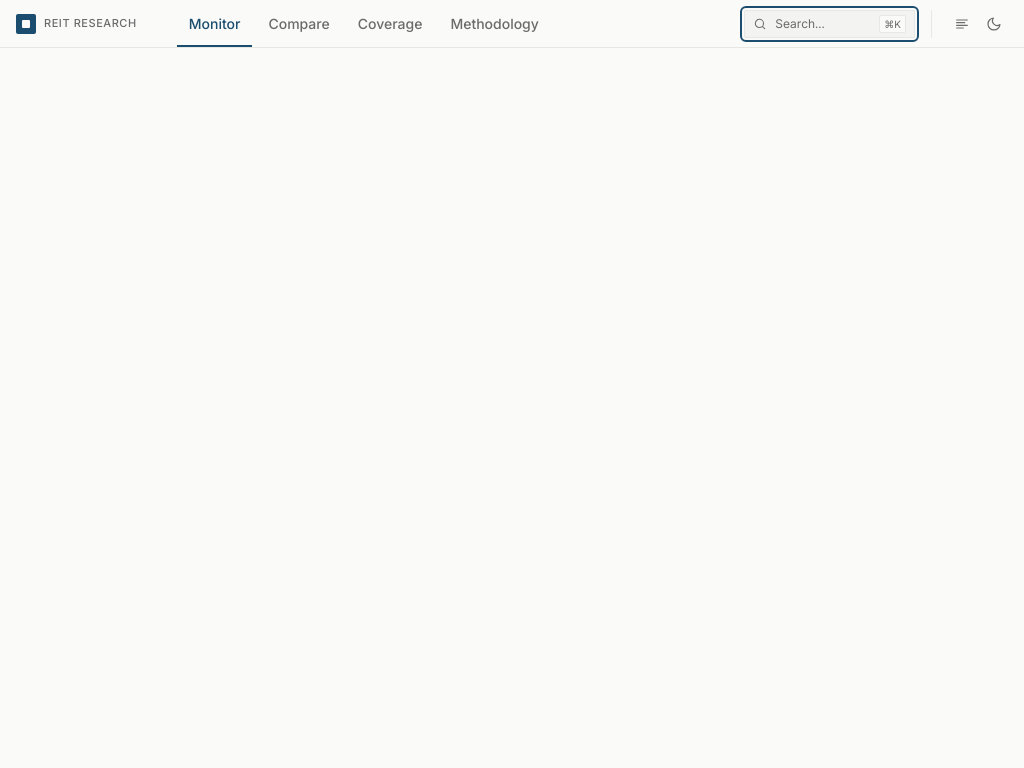
Test: GlobalNav Search › Search Trigger › should show initial entity suggestions without query
What coordinates should you click on to do the following:
click the button with aria-label "Open search (Cmd+K)"
I would click on:
 (830, 24)
Its box is [744,10,915,38].
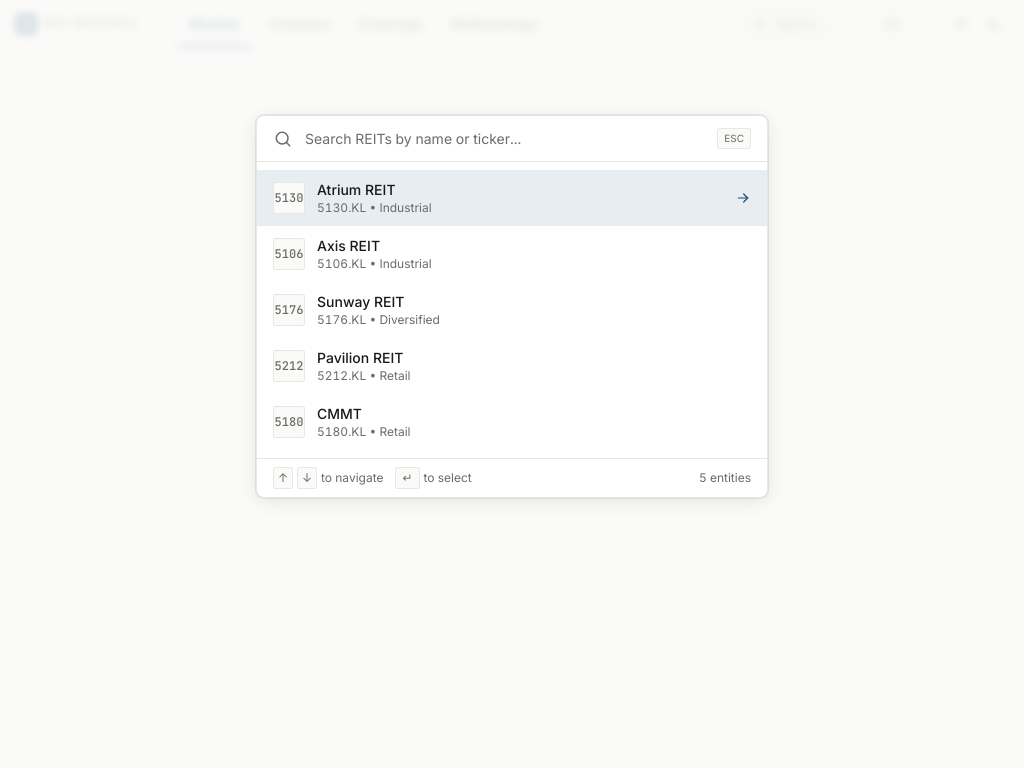
Now the text "Atrium REIT" is shown, box [317,181,396,198]
Now the text "Axis REIT" is shown, box [317,237,380,254]
